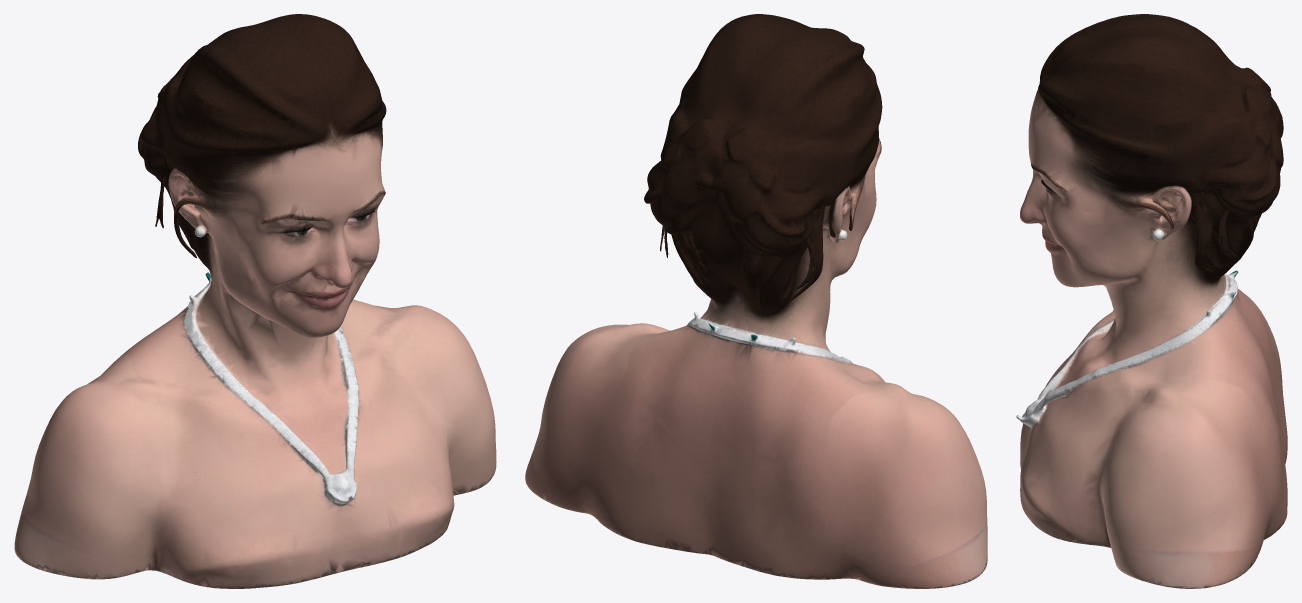
Rendered from Claire_Forlani_2015.glb.
3 views of the same model, side by side, from view 1: azimuth 30°, elevation 25°; view 2: azimuth 150°, elevation 25°; view 3: azimuth 270°, elevation 25° (orthographic). The views are drawn at different scales.
Bounding box in the file's own units: 1.85 × 1.89 × 1.01.
Materials: 1 (1 with a texture image).
